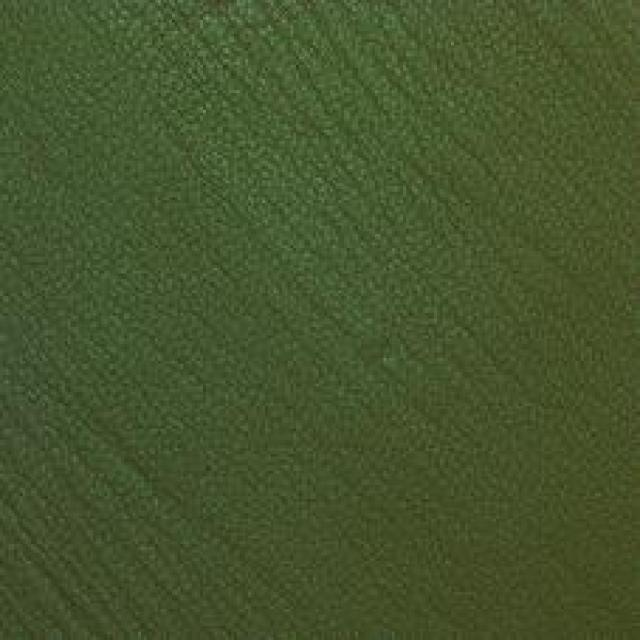Growth Marks: (201, 13, 521, 203), (13, 432, 252, 598)
